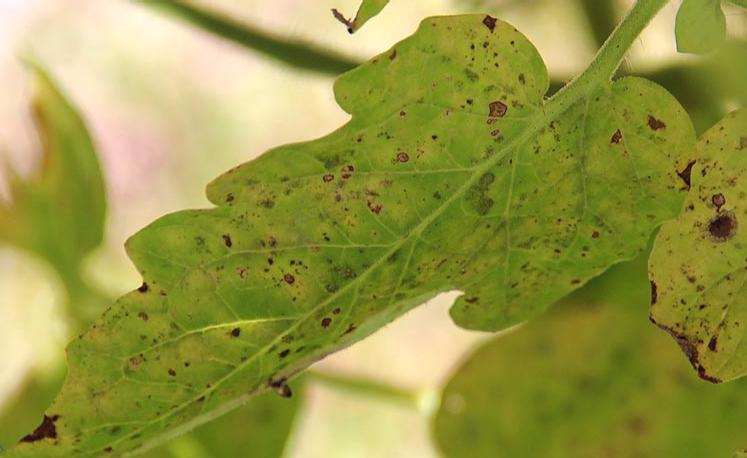Tomato Septoria leaf spot: (0, 28, 699, 458), (615, 37, 747, 434)
